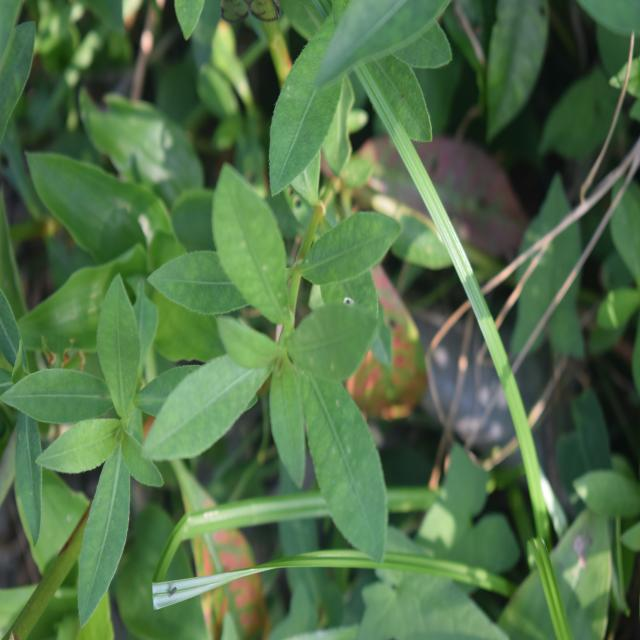Alligatorweed: (186, 150, 411, 547), (45, 224, 174, 572)
